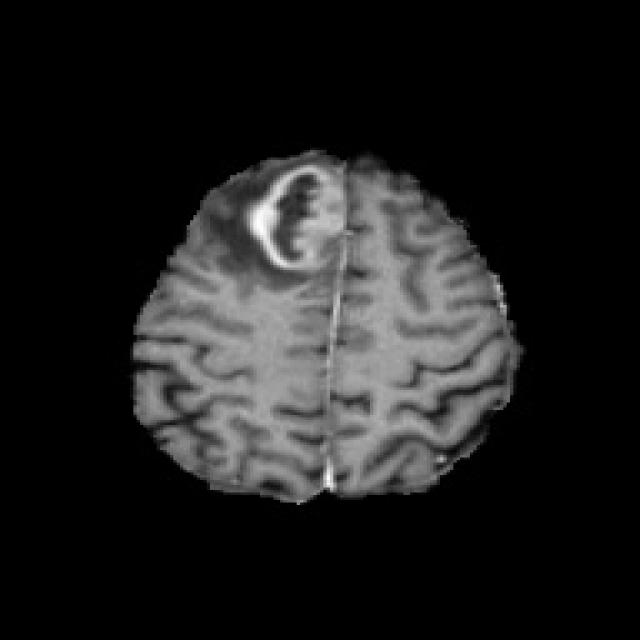positive: (247, 165, 340, 267)
